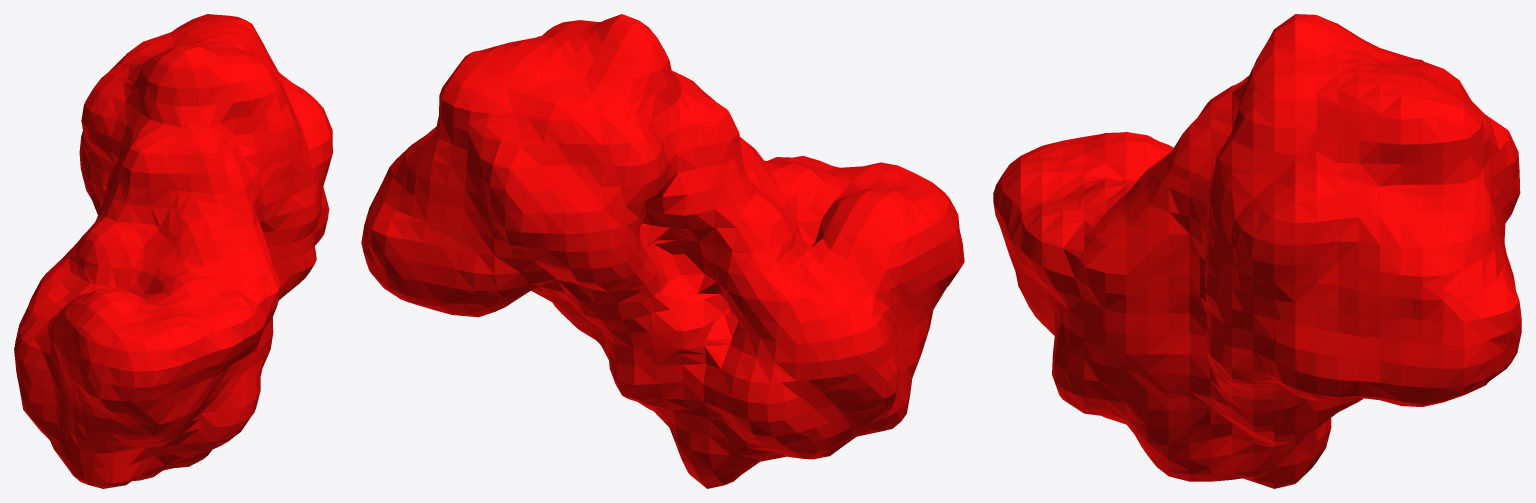
The model's file is purC_coarse.dae.
3 renders of one model, left to right at view 1: azimuth 30°, elevation 25°; view 2: azimuth 150°, elevation 25°; view 3: azimuth 270°, elevation 25°, orthographic. The views are drawn at different scales.
Parts seen in each view (by area): view 1: purC; view 2: purC; view 3: purC.
Part boxes in pixels (x1,y1,x2,y2): purC: (14,14,332,488); purC: (361,14,964,488); purC: (993,14,1521,488).
Bounding box in the file's own units: 70.96 × 73.34 × 68.42.
